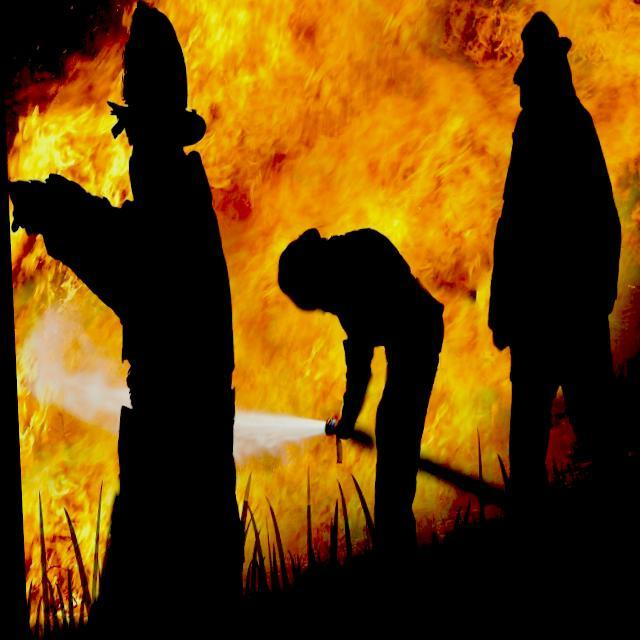Fire: (2, 0, 639, 630)
